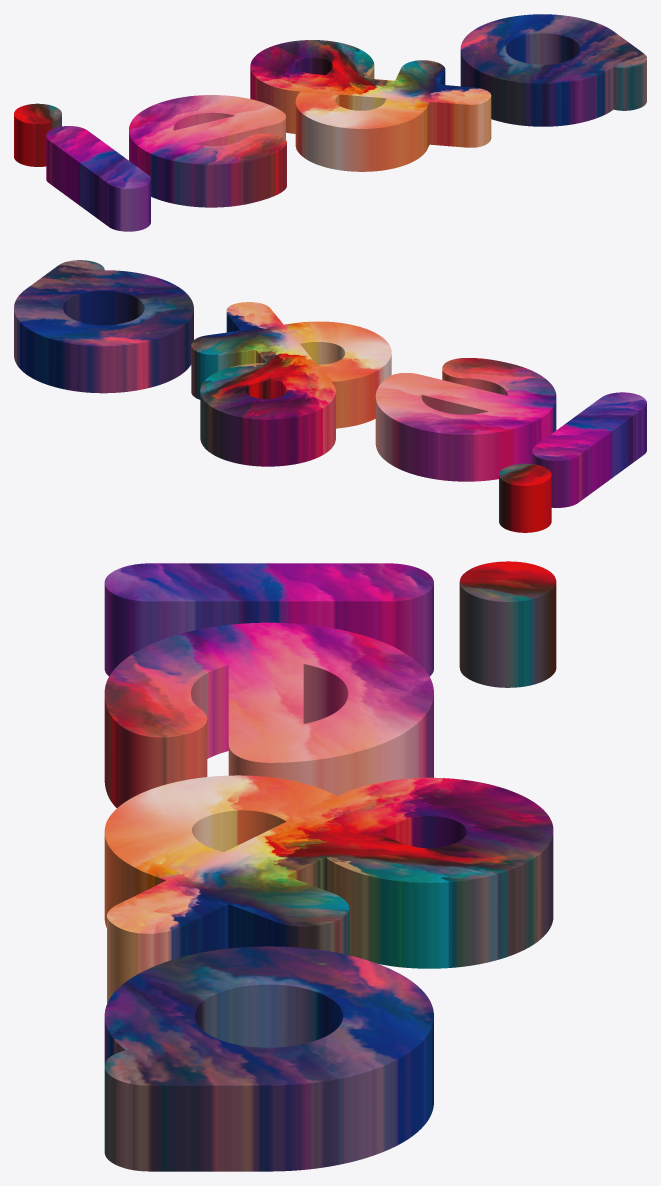
3 renders of one model, top to bottom at view 1: azimuth 30°, elevation 25°; view 2: azimuth 150°, elevation 25°; view 3: azimuth 270°, elevation 25°, orthographic. The views are drawn at different scales.
Visible parts, largest first — view 1: Text.001, Text, Text.002, Text.003, Text.004; view 2: Text.001, Text, Text.002, Text.003, Text.004; view 3: Text.001, Text, Text.002, Text.003, Text.004.
Boxes of the visible parts, x1,y1,x2,y2 form: Text.001: [250, 40, 491, 171]; Text: [460, 14, 646, 126]; Text.002: [129, 95, 286, 207]; Text.003: [46, 126, 150, 231]; Text.004: [14, 103, 61, 166]; Text.001: [191, 302, 391, 466]; Text: [14, 260, 193, 393]; Text.002: [375, 358, 556, 481]; Text.003: [532, 392, 646, 507]; Text.004: [499, 463, 551, 532]; Text.001: [104, 775, 553, 1002]; Text: [104, 946, 433, 1171]; Text.002: [104, 622, 433, 807]; Text.003: [104, 563, 433, 676]; Text.004: [459, 561, 556, 687].
Bounding box in the file's own units: 1.41 × 0.1075 × 0.5127.
1 material, 1 textured.
